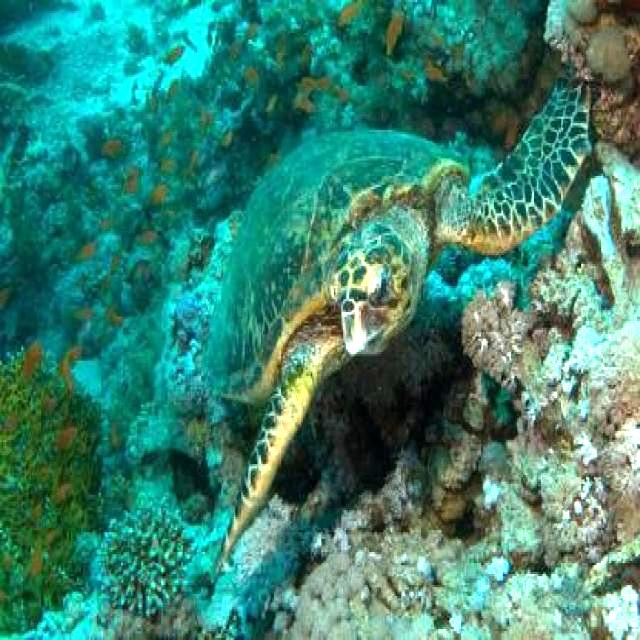Sea turtle: (182, 72, 587, 582)
